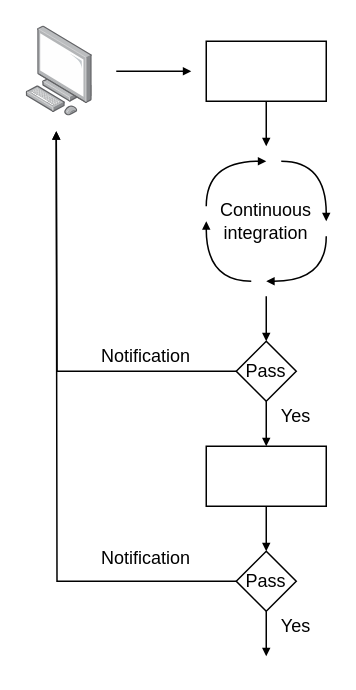
Some shapes in this 356 by 690 pixel diagram are drawn without their labels. The shapes that lost their labels are listed below. From the top down, each one's centre as x and y in pixels, then its label:
At (x=265, y=70): "Source code control system".
At (x=265, y=475): "Source code build and test".
